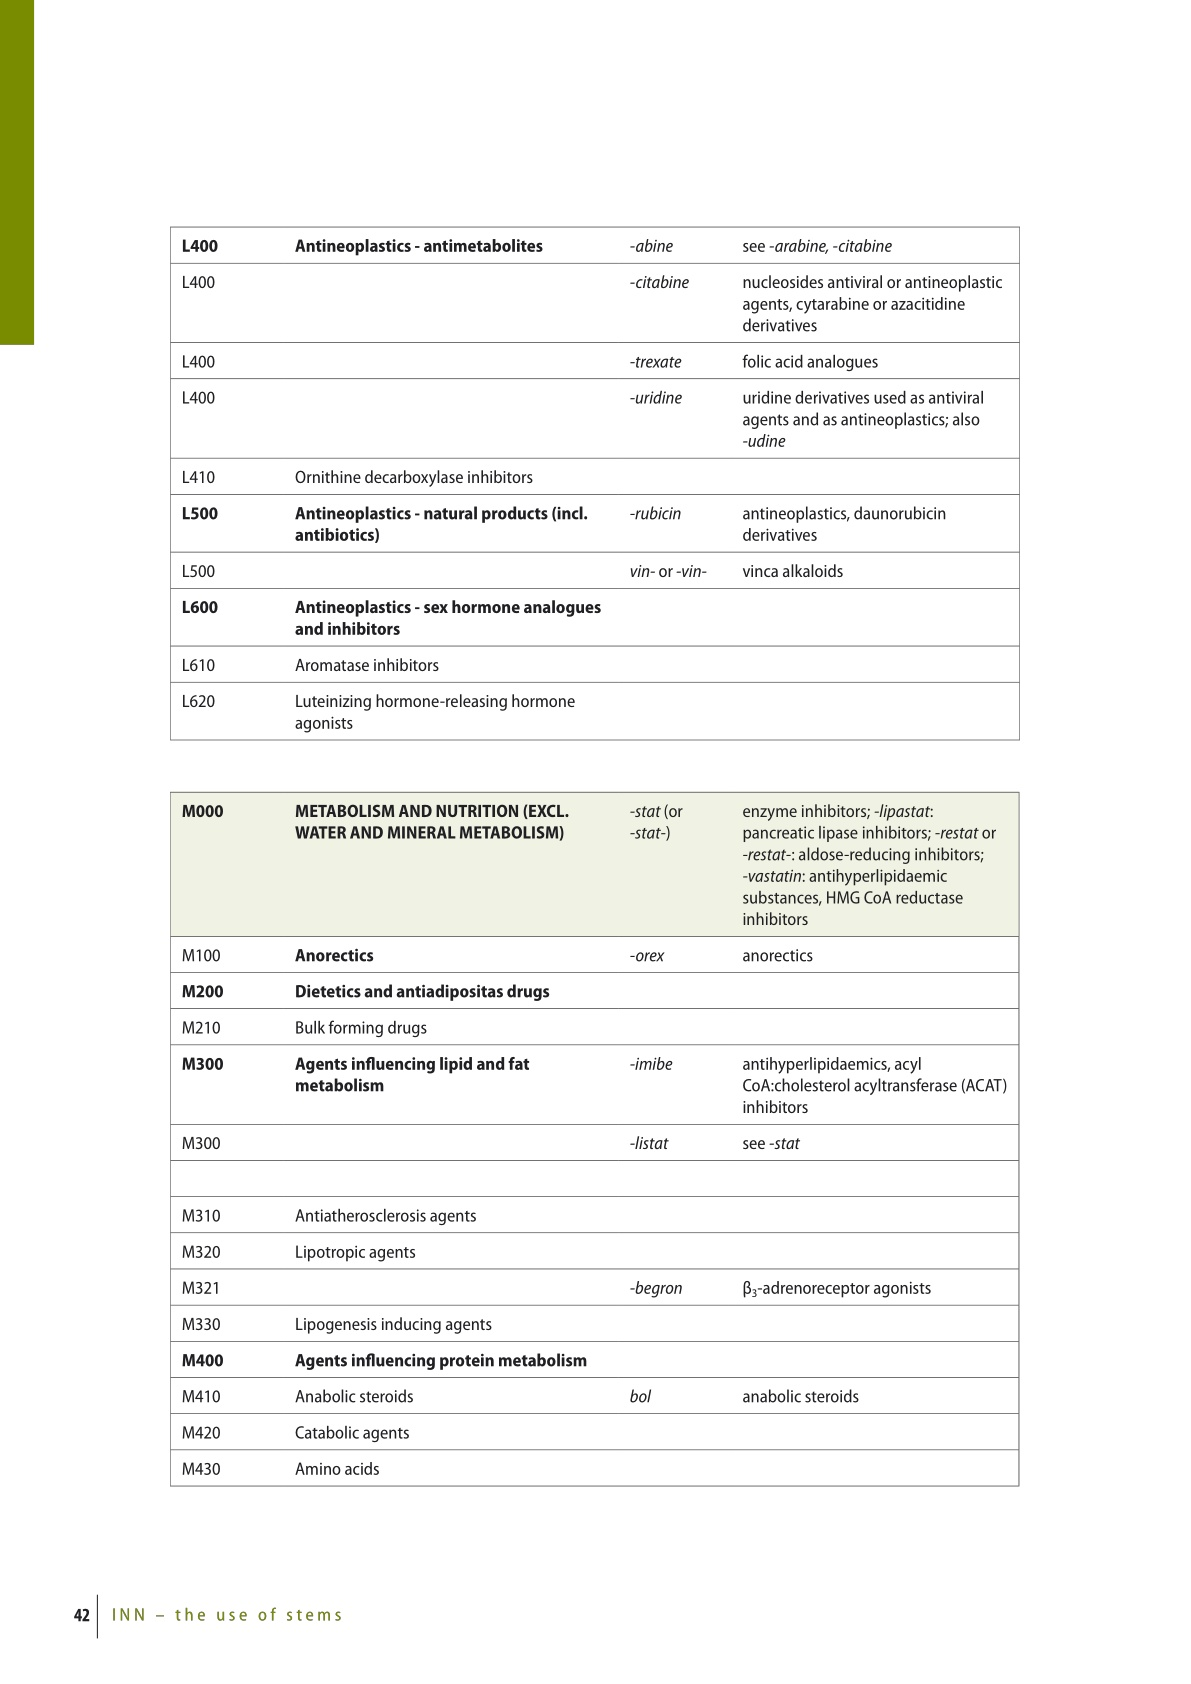partial_lined: (168, 790, 1021, 1489), (168, 225, 1021, 742)
